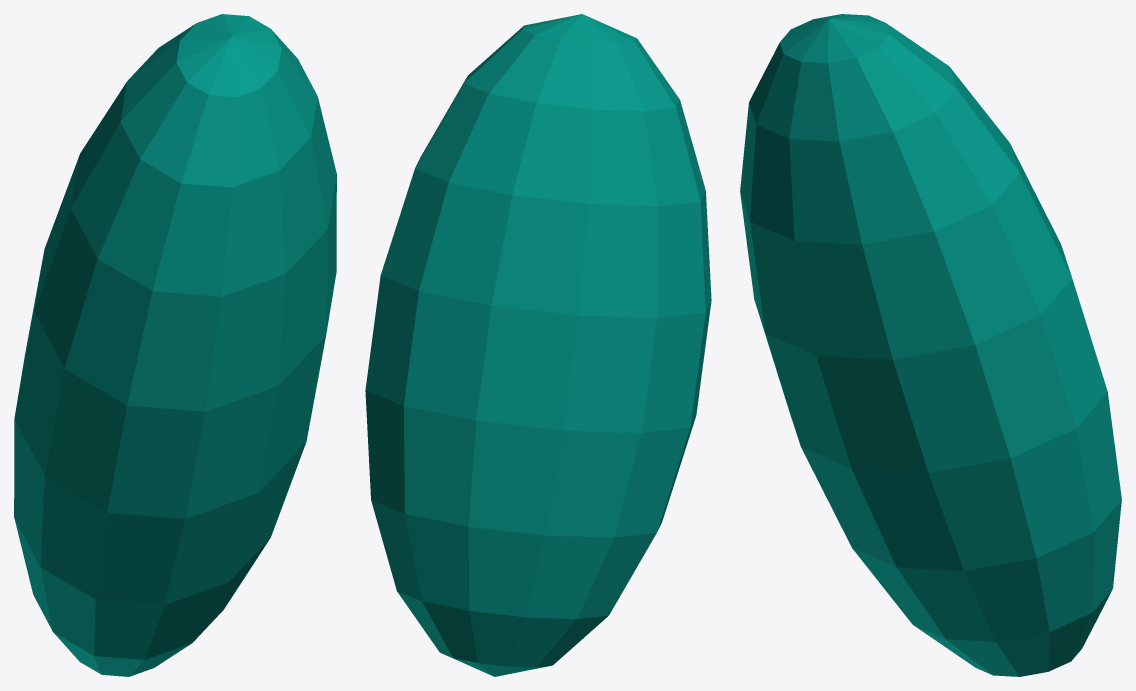
Rendered from n5_n5_group2053975513_lev5.001.glb.
3 renders of one model, left to right at view 1: azimuth 30°, elevation 25°; view 2: azimuth 150°, elevation 25°; view 3: azimuth 270°, elevation 25°, orthographic. The views are drawn at different scales.
Parts seen in each view (by area): view 1: n5_n5_group2053975513_lev5.001; view 2: n5_n5_group2053975513_lev5.001; view 3: n5_n5_group2053975513_lev5.001.
Part boxes in pixels (x1,y1,x2,y2): n5_n5_group2053975513_lev5.001: (14,14,336,676); n5_n5_group2053975513_lev5.001: (365,14,711,676); n5_n5_group2053975513_lev5.001: (740,14,1121,676).
Bounding box in the file's own units: 1.63 × 3.52 × 1.86.
